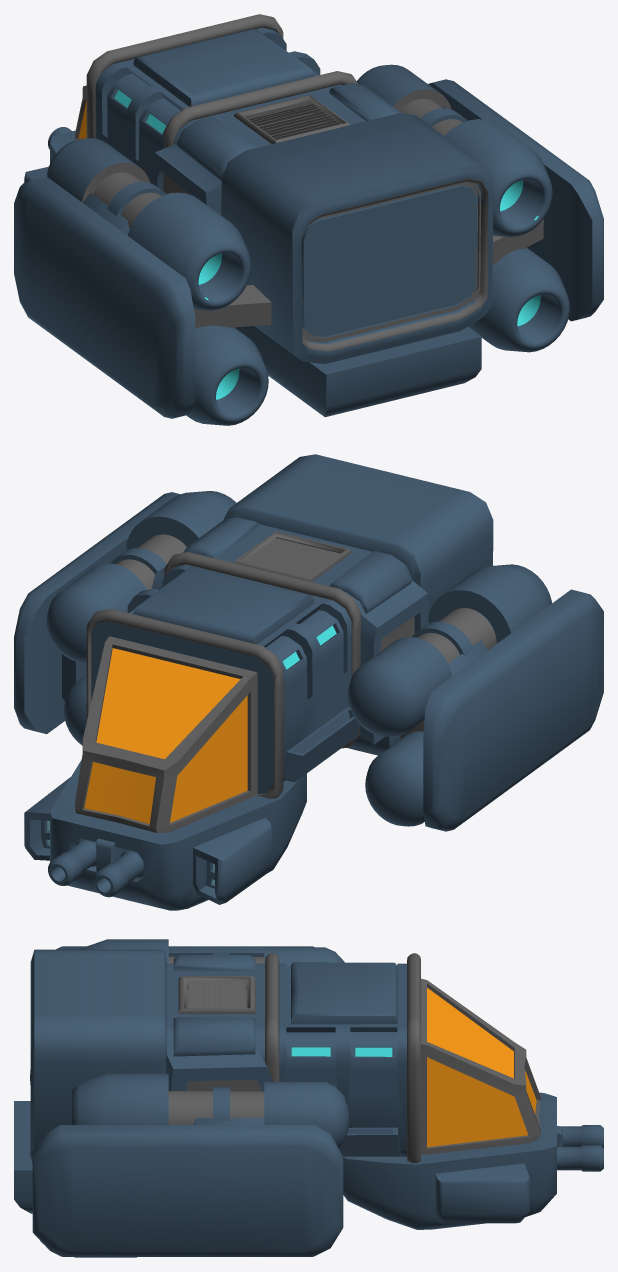
The model's file is SHIP_SKFB.fbx.
The picture shows the model from 3 angles, top to bottom: view 1: azimuth 30°, elevation 25°; view 2: azimuth 150°, elevation 25°; view 3: azimuth 270°, elevation 25°; orthographic projection. The views are drawn at different scales.
Parts seen in each view (by area): view 1: Cube.002; view 2: Cube.002; view 3: Cube.002.
Boxes of the visible parts, bbox=[...] form: Cube.002: bbox=[14, 14, 603, 425]; Cube.002: bbox=[14, 454, 603, 910]; Cube.002: bbox=[14, 939, 603, 1257].
Size of the model in its own units: 446 by 228 by 570.
